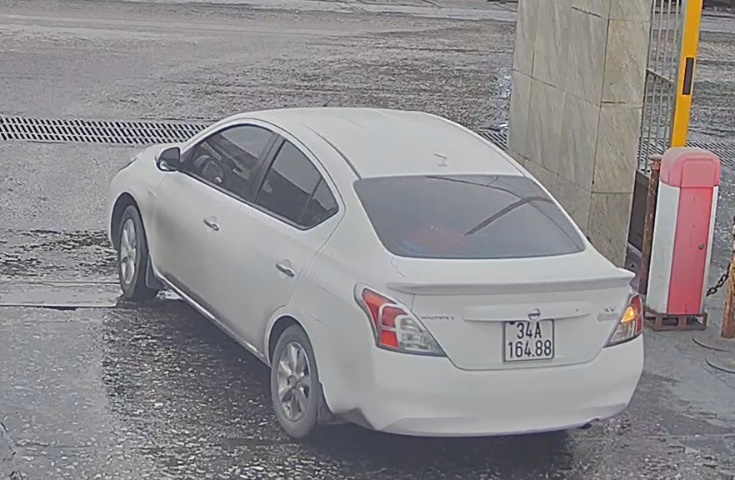vehicle plate: (500, 313, 554, 367)
